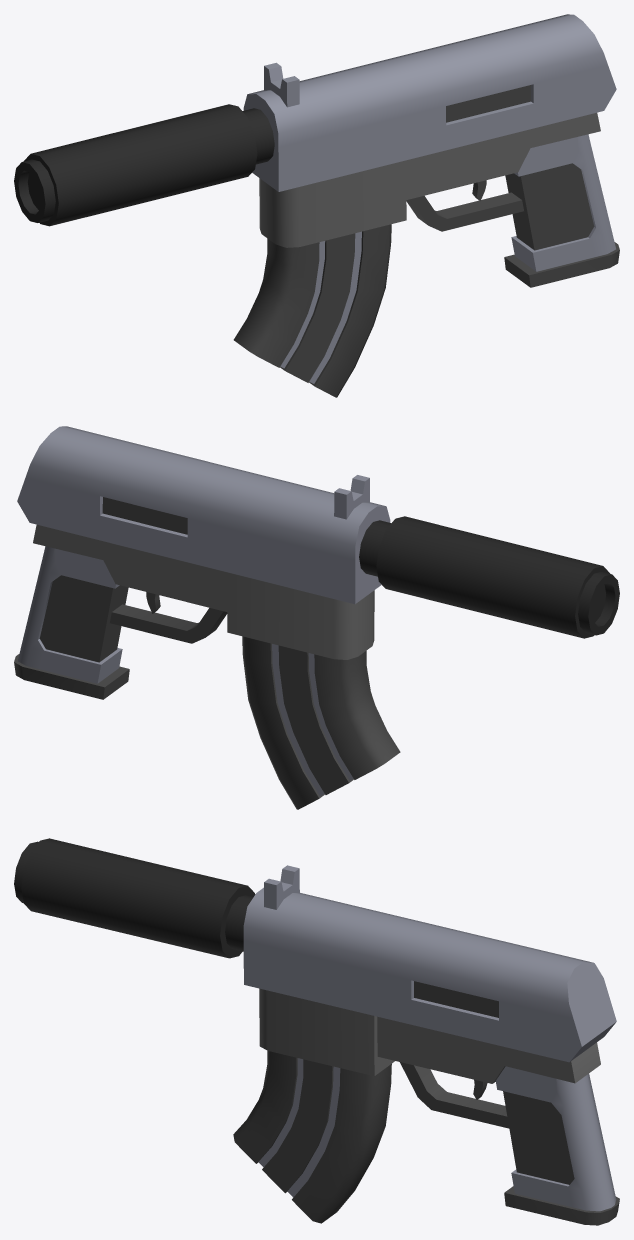
The model's file is smg.glb.
3 views of the same model, one above another, from view 1: azimuth 30°, elevation 25°; view 2: azimuth 150°, elevation 25°; view 3: azimuth 330°, elevation 25° (orthographic).
Visible parts, largest first — view 1: SMG; view 2: SMG; view 3: SMG.
Part boxes in pixels (x1,y1,x2,y2): SMG: (14, 14, 619, 397); SMG: (14, 426, 619, 809); SMG: (14, 838, 619, 1225).
Size of the model in its own units: 1.14 by 0.6182 by 0.1274.
Materials: 4 (4 with a texture image).
